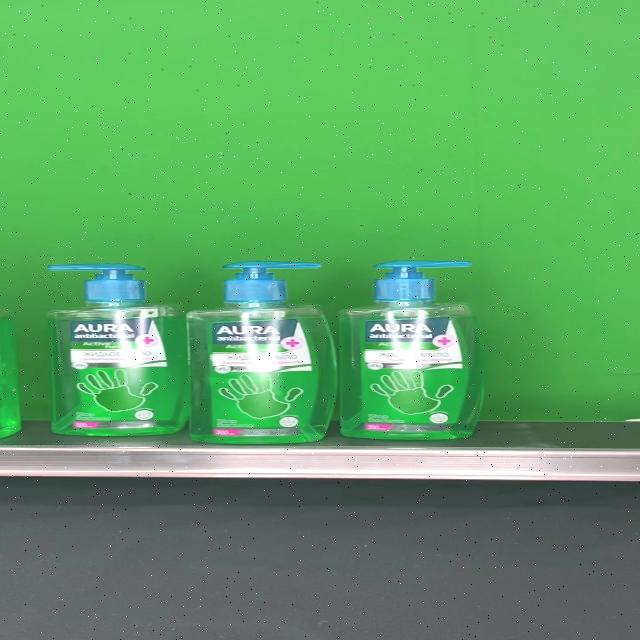Bottle: (186, 260, 337, 444), (337, 258, 485, 440), (47, 263, 190, 437)
Cap: (222, 261, 321, 303), (372, 259, 472, 300), (48, 263, 146, 301)
